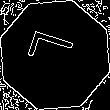L_E: (26, 32, 84, 78)
